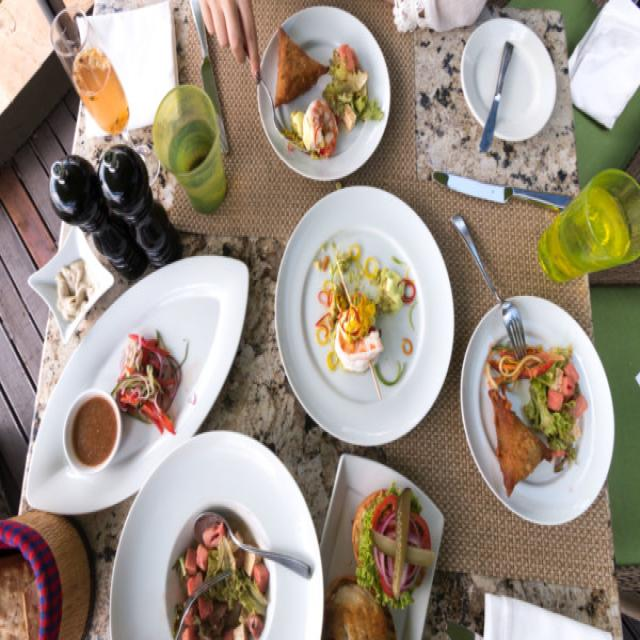hamburger: (318, 457, 447, 640)
salad ca ngu: (128, 451, 326, 640)
tom hap: (294, 195, 443, 426)
